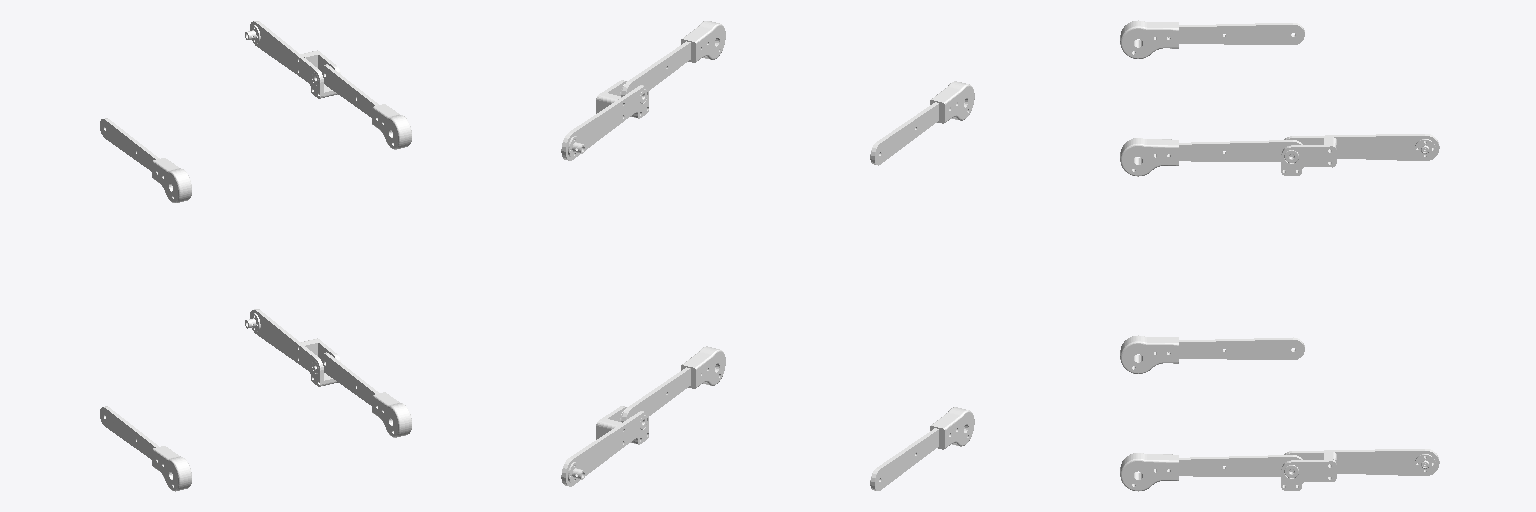
robot.urdf — plane:
<?xml version="1.0" ?>
<robot name="plane">
  <link name="chassis">
  <contact>
      <lateral_friction value="1"/>
  </contact>
    <inertial>
      <origin rpy="0 0 0" xyz="0 0.03 0.043794"/>
       <mass value="13.715"/>
       <inertia ixx="0" ixy="0" ixz="0" iyy="0" iyz="0" izz="0"/>
    </inertial>
    <visual>
      <origin rpy="0 -1.5709 -1.5709" xyz="0 0 0"/>
      <geometry>
        <mesh filename="meshes/base_link.STL" scale="1 1 1"/>
      </geometry>
       <material name="white">
        <color rgba="1 1 1 1"/>
      </material>
    </visual>
    <collision>
      <origin rpy="-1.57 0 0" xyz="0 0 0.043794"/>
      <geometry>
        <mesh filename="chassis_vhacd_mod.obj" scale="1 1 1"/>
      </geometry>
    </collision>
  </link>
  <link name="FR_hip_motor">
    <contact>
      <lateral_friction value="1"/>
    </contact>
    <inertial>
       <origin rpy="0 0 0" xyz="0.02 0 0"/>
       <mass value="1.095"/>
       <inertia ixx="0" ixy="0" ixz="0" iyy="0" iyz="0" izz="0"/>
    </inertial>

    <visual>
      <origin rpy="0 -1.5709 -1.5709" xyz="0 0 0"/>
      <geometry>
        <mesh filename="meshes/hip_motor_mirror.STL" scale="1 1 1"/>
      </geometry>
       <material name="white"/>
    </visual>

    <collision>
      <origin rpy="0 0 0" xyz="0 0 0"/>
      <geometry>
        <mesh filename="hip_motor_mirror.stl" scale="1 1 1"/>
      </geometry>
    </collision>
    </link>

    <joint name="FR_hip_motor_2_chassis_joint" type="revolute">
    <axis xyz="0 0 -1"/>
    <parent link="chassis"/>
    <child link="FR_hip_motor"/>

    <origin rpy="0 0 0" xyz="-0.08 -0.0323 0.1321"/>
    <limit effort="100" velocity="100" lower="-0.873" upper="1.0472"/>
    <joint_properties damping=".0" friction=".0"/>
  </joint>

     <link name="FR_upper_leg">
  <contact>
      <lateral_friction value="1"/>
  </contact>
    <inertial>
     <origin rpy="0 0 0" xyz="0 -0.04 -0.04"/>
       <mass value="1.527"/>
       <inertia ixx="0" ixy="0" ixz="0" iyy="0" iyz="0" izz="0"/>
    </inertial>
       <visual>
      <origin rpy="0 -1.5709 -1.5709" xyz="0 0 0"/>
      <geometry>
        <mesh filename="meshes/R_upper.STL" scale="1 1 1"/>
      </geometry>
       <material name="white"/>
    </visual>

    <collision>
      <origin rpy="0 0 0" xyz="0 0 0"/>
      <geometry>
        <mesh filename="upper_leg_right_vhacd.obj" scale="1 1 1"/>
      </geometry>
    </collision>

    </link>

    <joint name="FR_upper_leg_2_hip_motor_joint" type="revolute">
    <axis xyz="1 0 0"/>
    <parent link="FR_hip_motor"/>
    <child link="FR_upper_leg"/>
    <origin rpy="0 0 0" xyz="-0.065855  0.01420 0.0278"/>
    <limit effort="100" velocity="100" lower="-1.3" upper="3.4"/>
    <joint_properties damping=".0" friction=".0"/>
  </joint>

     <link name="FR_lower_leg">
  <contact>
      <lateral_friction value="1"/>
  </contact>
    <inertial>
      <origin rpy="0 0 0" xyz="0 -0.16 -0.02"/>
       <mass value="0.241"/>
       <inertia ixx="0" ixy="0" ixz="0" iyy="0" iyz="0" izz="0"/>
    </inertial>
       <visual>
      <origin rpy="0 -1.5709 -1.5709" xyz="0 0.0 0"/>
      <geometry>
        <mesh filename="meshes/lower.STL" scale="1 1 1"/>
      </geometry>
       <material name="white"/>
    </visual>

    <collision>
      <origin rpy="0 1.57079 0" xyz="0 0.0 0"/>
      <geometry>
        <mesh filename="lower_leg_3.stl" scale="1 1 1"/>
      </geometry>
    </collision>
    </link>
    <joint name="FR_lower_leg_2_upper_leg_joint" type="revolute">
    <axis xyz="1 0 0"/>
    <parent link="FR_upper_leg"/>
    <child link="FR_lower_leg"/>

    <origin rpy="0 0 0" xyz="-0.015 -0.138 0.001"/>
    <limit effort="100" velocity="100" lower="-2.164" upper="0"/>
    <joint_properties damping=".0" friction=".0"/>
  </joint>


   <link name="FL_hip_motor">
  <contact>
      <lateral_friction value="1"/>
  </contact>
    <inertial>
     <origin rpy="0 0 0" xyz="-.02 0 0"/>
       <mass value="1.095"/>
       <inertia ixx="0" ixy="0" ixz="0" iyy="0" iyz="0" izz="0"/>
    </inertial>
    <visual>
      <origin rpy="0 -1.5709 -1.5709" xyz="0 0 0"/>
      <geometry>
        <mesh filename="meshes/hip_motor.STL" scale="1 1 1"/>
      </geometry>
       <material name="white">
      </material>
    </visual>

    <collision>
      <origin rpy="0 0 0" xyz="0 0 0"/>
      <geometry>
        <mesh filename="hip_motor.stl" scale="1 1 1"/>
      </geometry>
    </collision>

      </link>

   <joint name="FL_hip_motor_2_chassis_joint" type="revolute">
    <axis xyz="0 0 1"/>
    <parent link="chassis"/>
    <child link="FL_hip_motor"/>
    <origin rpy="0 0 0" xyz="0.08 -0.0323 0.1321"/>
    <limit effort="100" velocity="100" lower="-0.873" upper="1.0472"/>
    <joint_properties damping=".0" friction=".0"/>
  </joint>

  <link name="FL_upper_leg">
  <contact>
      <lateral_friction value="1"/>
  </contact>
    <inertial>
       <origin rpy="0 0 0" xyz="0 -0.04 -0.04"/>
       <mass value="1.527"/>
       <inertia ixx="0" ixy="0" ixz="0" iyy="0" iyz="0" izz="0"/>
    </inertial>
     <visual>
      <origin rpy="0 -1.5709 -1.5709" xyz="0 0 0"/>
      <geometry>

        <mesh filename="meshes/L_upper.STL" scale="1 1 1"/>
      </geometry>
       <material name="white">
      </material>
    </visual>

     <collision>
      <origin rpy="0 0 0" xyz="0 0 0"/>
      <geometry>
        <mesh filename="upper_leg_left_vhacd.obj" scale="1 1 1"/>
      </geometry>
    </collision>

    </link>


  <joint name="FL_upper_leg_2_hip_motor_joint" type="revolute">
    <axis xyz="1 0 0"/>
    <parent link="FL_hip_motor"/>
    <child link="FL_upper_leg"/>
    <origin rpy="0 0 0" xyz="0.065855  0.01420 0.0278"/>
    <limit effort="100" velocity="100" lower="-1.3" upper="3.4"/>
    <joint_properties damping=".0" friction=".0"/>
  </joint>


  <link name="FL_lower_leg">
  <contact>
      <lateral_friction value="1"/>
  </contact>
    <inertial>
      <origin rpy="0 0 0" xyz="0 -0.16 -0.02"/>
       <mass value="0.241"/>
       <inertia ixx="0" ixy="0" ixz="0" iyy="0" iyz="0" izz="0"/>
    </inertial>
   <visual>
      <origin rpy="0 -1.5709 -1.5709" xyz="0 0 0"/>
      <geometry>
        <mesh filename="meshes/lower.STL" scale="1 1 1"/>
      </geometry>
       <material name="white">
       </material>
    </visual>

     <collision>
      <origin rpy="0 1.57079 0" xyz="0 0 0"/>
      <geometry>
        <mesh filename="lower_leg_3.stl" scale="1 1 1"/>
      </geometry>
    </collision>

    </link>

  <joint name="FL_lower_leg_2_upper_leg_joint" type="revolute">
    <axis xyz="1 0 0"/>
    <parent link="FL_upper_leg"/>
    <child link="FL_lower_leg"/>
    <origin rpy="0 0 0" xyz="-0.015 -0.138 0.001"/>
    <limit effort="100" velocity="100" lower="-2.164" upper="0"/>
    <joint_properties damping=".0" friction=".0"/>
  </joint>






   <link name="RR_hip_motor">
  <contact>
      <lateral_friction value="1"/>
  </contact>
    <inertial>
      <origin rpy="0 0 0" xyz="0.02 0 0"/>
       <mass value="1.095"/>
       <inertia ixx="0" ixy="0" ixz="0" iyy="0" iyz="0" izz="0"/>
    </inertial>

    <visual>
      <origin rpy="0 -1.5709 -1.5709" xyz="0 0 0"/>
      <geometry>
        <mesh filename="meshes/hip_motor_mirror.STL" scale="1 1 1"/>
      </geometry>
       <material name="white"/>
    </visual>

     <collision>
      <origin rpy="0 0 0" xyz="0 0 0"/>
      <geometry>
        <mesh filename="hip_motor_mirror.stl" scale="1 1 1"/>
      </geometry>
    </collision>

    </link>

    <joint name="RR_hip_motor_2_chassis_joint" type="revolute">
    <axis xyz="0 0 -1"/>
    <parent link="chassis"/>
    <child link="RR_hip_motor"/>
    <origin rpy="0 0 0" xyz="-0.08 -0.0323 -0.233"/>
    <limit effort="100" velocity="100" lower="-0.873" upper="1.0472"/>
    <joint_properties damping=".0" friction=".0"/>
  </joint>

     <link name="RR_upper_leg">
  <contact>
      <lateral_friction value="1"/>
  </contact>
    <inertial>
     <origin rpy="0 0 0" xyz="0 -0.04 -0.04"/>
       <mass value="1.527"/>
       <inertia ixx="0" ixy="0" ixz="0" iyy="0" iyz="0" izz="0"/>
    </inertial>
       <visual>
      <origin rpy="0 -1.5709 -1.5709" xyz="0 0 0"/>
      <geometry>
        <mesh filename="meshes/R_upper.STL" scale="1 1 1"/>
      </geometry>
       <material name="white"/>
    </visual>

    <collision>
      <origin rpy="0 0 0" xyz="0 0 0"/>
      <geometry>
        <mesh filename="upper_leg_right_vhacd.obj" scale="1 1 1"/>
      </geometry>
    </collision>

    </link>

    <joint name="RR_upper_leg_2_hip_motor_joint" type="revolute">
    <axis xyz="1 0 0"/>
    <parent link="RR_hip_motor"/>
    <child link="RR_upper_leg"/>
    <origin rpy="0 0 0" xyz="-0.065855  0.01420 0.0278"/>
    <limit effort="100" velocity="100" lower="-1.3" upper="3.4"/>
    <joint_properties damping=".0" friction=".0"/>
  </joint>

     <link name="RR_lower_leg">
  <contact>
      <lateral_friction value="1"/>
  </contact>
    <inertial>
      <origin rpy="0 0 0" xyz="0 -0.16 -0.02"/>
       <mass value="0.241"/>
       <inertia ixx="0" ixy="0" ixz="0" iyy="0" iyz="0" izz="0"/>
    </inertial>
       <visual>
      <origin rpy="0 -1.5709 -1.5709" xyz="0 0 0"/>
      <geometry>
        <mesh filename="meshes/lower.STL" scale="1 1 1"/>
      </geometry>
       <material name="white"/>
    </visual>

     <collision>
      <origin rpy="0 1.57079 0" xyz="0 0 0"/>
      <geometry>
        <mesh filename="lower_leg_3.stl" scale="1 1 1"/>
      </geometry>
    </collision>

    </link>

    <joint name="RR_lower_leg_2_upper_leg_joint" type="revolute">
    <axis xyz="1 0 0"/>
    <parent link="RR_upper_leg"/>
    <child link="RR_lower_leg"/>
    <origin rpy="0 0 0" xyz="-0.015 -0.138 0.001"/>
    <limit effort="100" velocity="100" lower="-2.164" upper="0"/>
    <joint_properties damping=".0" friction=".0"/>
  </joint>


   <link name="RL_hip_motor">
  <contact>
      <lateral_friction value="1"/>
  </contact>
    <inertial>
      <origin rpy="0 0 0" xyz="-.02 0 0"/>
       <mass value="1.095"/>
       <inertia ixx="0" ixy="0" ixz="0" iyy="0" iyz="0" izz="0"/>
    </inertial>
    <visual>
      <origin rpy="0 -1.5709 -1.5709" xyz="0 0 0"/>
      <geometry>
        <mesh filename="meshes/hip_motor.STL" scale="1 1 1"/>
      </geometry>
       <material name="white"/>
    </visual>

    <collision>
      <origin rpy="0 0 0" xyz="0 0 0"/>
      <geometry>
        <mesh filename="hip_motor.stl" scale="1 1 1"/>
      </geometry>
    </collision>

      </link>

   <joint name="RL_hip_motor_2_chassis_joint" type="revolute">
    <axis xyz="0 0 1"/>
    <parent link="chassis"/>
    <child link="RL_hip_motor"/>

    <origin rpy="0 0 0" xyz="0.08 -0.0323 -0.233"/>
    <limit effort="100" velocity="100" lower="-0.873" upper="1.0472"/>
    <joint_properties damping=".0" friction=".0"/>
  </joint>

  <link name="RL_upper_leg">
  <contact>
      <lateral_friction value="1"/>
  </contact>
    <inertial>
      <origin rpy="0 0 0" xyz="0 -0.04 -0.04"/>
       <mass value="1.527"/>
       <inertia ixx="0" ixy="0" ixz="0" iyy="0" iyz="0" izz="0"/>
    </inertial>
     <visual>
      <origin rpy="0 -1.5709 -1.5709" xyz="0 0 0"/>
      <geometry>
        <mesh filename="meshes/L_upper.STL" scale="1 1 1"/>
      </geometry>
       <material name="white"/>
    </visual>

    <collision>
      <origin rpy="0 0 0" xyz="0 0 0"/>
      <geometry>
        <mesh filename="upper_leg_left_vhacd.obj" scale="1 1 1"/>
      </geometry>
    </collision>

    </link>


  <joint name="RL_upper_leg_2_hip_motor_joint" type="revolute">
    <axis xyz="1 0 0"/>
    <parent link="RL_hip_motor"/>
    <child link="RL_upper_leg"/>
    <origin rpy="0 0 0" xyz="0.065855  0.01420 0.0278"/>
    <limit effort="100" velocity="100" lower="-1.3" upper="3.4"/>
    <joint_properties damping=".0" friction=".0"/>
  </joint>


  <link name="RL_lower_leg">
  <contact>
      <lateral_friction value="1"/>
  </contact>
    <inertial>
      <origin rpy="0 0 0" xyz="0 -0.16 -0.02"/>
       <mass value="0.241"/>
       <inertia ixx="0" ixy="0" ixz="0" iyy="0" iyz="0" izz="0"/>
    </inertial>
   <visual>
      <origin rpy="0 -1.5709 -1.5709" xyz="0 0 0"/>
      <geometry>
        <mesh filename="meshes/lower.STL" scale="1 1 1"/>
      </geometry>
       <material name="white"/>
    </visual>

    <collision>
      <origin rpy="0 1.57079 0" xyz="0 0 0"/>
      <geometry>
        <mesh filename="lower_leg_3.stl" scale="1 1 1"/>
      </geometry>
    </collision>

    </link>

  <joint name="RL_lower_leg_2_upper_leg_joint" type="revolute">
    <axis xyz="1 0 0"/>
    <parent link="RL_upper_leg"/>
    <child link="RL_lower_leg"/>
    <origin rpy="0 0 0" xyz="-0.015 -0.138 0.001"/>
    <limit effort="100" velocity="100" lower="-2.164" upper="0"/>
    <joint_properties damping=".0" friction=".0"/>
  </joint>

   <link name="toeRL">
    <contact>
      <friction_anchor/>
      <stiffness value="30000.0"/>
      <damping value="1000.0"/>
      <spinning_friction value="0.1"/>
      <lateral_friction value="1.0"/>
    </contact>
    <visual>
      <origin rpy="0 0 0" xyz="0 0 0"/>
      <geometry>
        <sphere radius="0.0"/>
      </geometry>
      <material name="white"/>
    </visual>
    <collision>
      <origin rpy="0 0 0" xyz="0 0 0"/>
      <geometry>
        <sphere radius="0.03"/>
      </geometry>
    </collision>
    <inertial>
      <mass value="0.1"/>
      <inertia ixx="0.000025" ixy="0" ixz="0" iyy="0.000025" iyz="0" izz="0.000025"/>
    </inertial>
  </link>
  <joint name="jtoeRL" type="fixed">
    <parent link="RL_lower_leg"/>
    <child link="toeRL"/>
    <origin xyz="0.012 -0.168 -0.004"/>
    <dynamics damping="0.0" friction="0.0"/>
  </joint>

  <link name="toeRR">
    <contact>
      <friction_anchor/>
      <stiffness value="30000.0"/>
      <damping value="1000.0"/>
      <spinning_friction value="0.1"/>
      <lateral_friction value="1.0"/>
    </contact>
    <visual>
      <origin rpy="0 0 0" xyz="0 0 0"/>
      <geometry>
        <sphere radius="0.0"/>
      </geometry>
      <material name="white"/>
    </visual>
    <collision>
      <origin rpy="0 0 0" xyz="0 0 0"/>
      <geometry>
        <sphere radius="0.03"/>
      </geometry>
    </collision>
    <inertial>
      <mass value="0.1"/>
      <inertia ixx="0.000025" ixy="0" ixz="0" iyy="0.000025" iyz="0" izz="0.000025"/>
    </inertial>
  </link>
  <joint name="jtoeRR" type="fixed">
    <parent link="RR_lower_leg"/>
    <child link="toeRR"/>
    <origin xyz="0.012 -0.168 -0.004"/>
    <dynamics damping="0.0" friction="0.0"/>
  </joint>

  <link name="toeFL">
    <contact>
      <friction_anchor/>
      <stiffness value="30000.0"/>
      <damping value="1000.0"/>
      <spinning_friction value="0.1"/>
      <lateral_friction value="1.0"/>
    </contact>
    <visual>
      <origin rpy="0 0 0" xyz="0 0 0"/>
      <geometry>
        <sphere radius="0.0"/>
      </geometry>
      <material name="white"/>
    </visual>
    <collision>
      <origin rpy="0 0 0" xyz="0 0 0"/>
      <geometry>
        <sphere radius="0.03"/>
      </geometry>
    </collision>
    <inertial>
      <mass value="0.1"/>
      <inertia ixx="0.000025" ixy="0" ixz="0" iyy="0.000025" iyz="0" izz="0.000025"/>
    </inertial>
  </link>
  <joint name="jtoeFL" type="fixed">
    <parent link="FL_lower_leg"/>
    <child link="toeFL"/>
    <origin xyz="0.012 -0.168 -0.004"/>
    <dynamics damping="0.0" friction="0.0"/>
  </joint>

  <link name="toeFR">
    <contact>
      <friction_anchor/>
      <stiffness value="30000.0"/>
      <damping value="1000.0"/>
      <spinning_friction value="0.1"/>
      <lateral_friction value="1.0"/>
    </contact>
    <visual>
      <origin rpy="0 0 0" xyz="0 0 0"/>
      <geometry>
        <sphere radius="0.0"/>
      </geometry>
      <material name="white"/>
    </visual>
    <collision>
      <origin rpy="0 0 0" xyz="0 0 0"/>
      <geometry>
        <sphere radius="0.03"/>
      </geometry>
    </collision>
    <inertial>
      <mass value="0.1"/>
      <inertia ixx="0.000025" ixy="0" ixz="0" iyy="0.000025" iyz="0" izz="0.000025"/>
    </inertial>
  </link>
  <joint name="jtoeFR" type="fixed">
    <parent link="FR_lower_leg"/>
    <child link="toeFR"/>
    <origin xyz="0.012 -0.168 -0.004"/>
    <dynamics damping="0.0" friction="0.0"/>
  </joint>
</robot>

--- Facts derived from the render (not from the file) ---
Views: 3 orthographic renders of the robot side by side, from view 1: azimuth 30°, elevation 25°; view 2: azimuth 150°, elevation 25°; view 3: azimuth 270°, elevation 25°.
Model plane with 17 links and 16 joints (12 revolute, 4 fixed), rooted at chassis, posed every joint at zero.
Links seen in each view (by area): view 1: FL_upper_leg, RL_upper_leg, RR_lower_leg, FR_lower_leg, FL_lower_leg, RL_lower_leg; view 2: RL_upper_leg, FL_upper_leg, FR_lower_leg, RR_lower_leg, FL_lower_leg, RL_lower_leg; view 3: FR_lower_leg, RR_lower_leg, RL_upper_leg, FL_upper_leg, RL_lower_leg, FL_lower_leg.
Boxes of the visible links, left/top/right/bottom form: FL_upper_leg: left=245, top=21, right=340, bottom=98; RL_upper_leg: left=245, top=309, right=340, bottom=386; RR_lower_leg: left=100, top=406, right=191, bottom=491; FR_lower_leg: left=100, top=118, right=191, bottom=202; FL_lower_leg: left=320, top=64, right=411, bottom=149; RL_lower_leg: left=320, top=352, right=411, bottom=437; RL_upper_leg: left=561, top=406, right=648, bottom=486; FL_upper_leg: left=561, top=80, right=648, bottom=160; FR_lower_leg: left=870, top=81, right=974, bottom=165; RR_lower_leg: left=870, top=407, right=974, bottom=490; FL_lower_leg: left=621, top=21, right=725, bottom=96; RL_lower_leg: left=621, top=346, right=725, bottom=422; FR_lower_leg: left=1120, top=20, right=1304, bottom=58; RR_lower_leg: left=1120, top=335, right=1304, bottom=373; RL_upper_leg: left=1281, top=449, right=1439, bottom=490; FL_upper_leg: left=1281, top=134, right=1439, bottom=175; RL_lower_leg: left=1120, top=453, right=1302, bottom=491; FL_lower_leg: left=1120, top=138, right=1302, bottom=176.
Size in the robot's own frame: 0.3133 by 0.3355 by 0.405 metres.
6 mesh visuals loaded from 6 distinct referenced files (2 binary STL); not drawn: 7 (reference not matched to a file when rendering).
